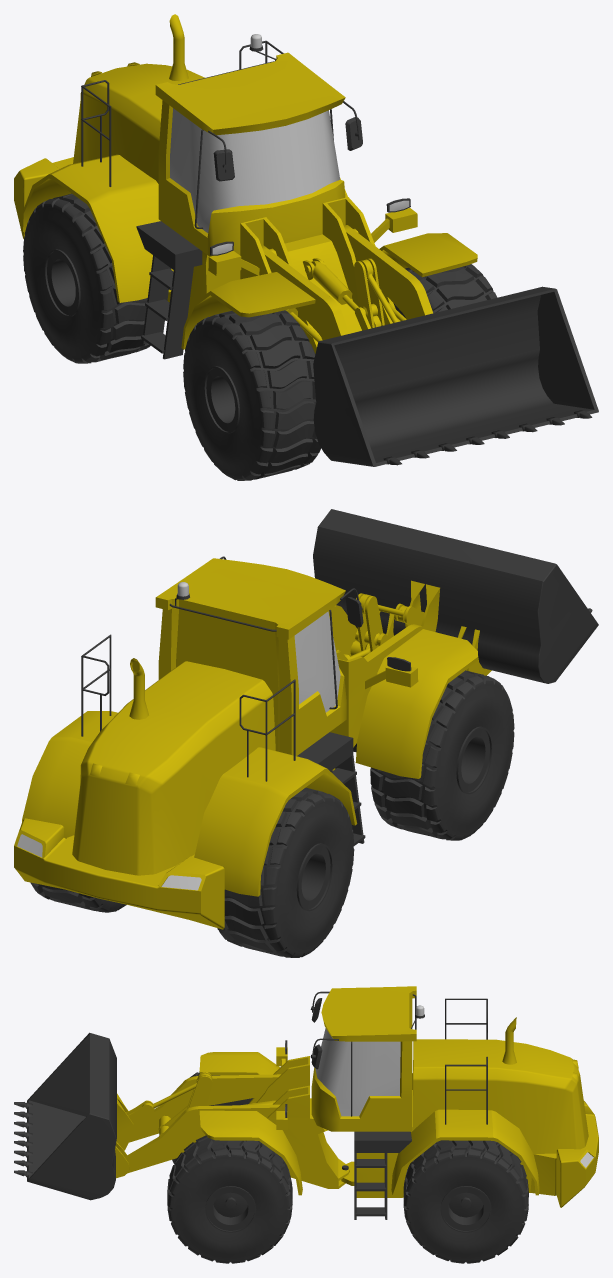
File: Bager.fbx
3 views of the same model, one above another, from view 1: azimuth 30°, elevation 25°; view 2: azimuth 150°, elevation 25°; view 3: azimuth 270°, elevation 25° (orthographic). The views are drawn at different scales.
Visible parts, largest first — view 1: kovsh_low, wheel_low, Cabin_low, glass_low, base_back_low, base_wings_low, front base_low, wing_low, balki kovsha_low, KRYLO_low, wheel cilinder_inside_low, Line_low (+6 smaller); view 2: base_back_low, wheel_low, kovsh_low, Cabin_low, base_wings_low, wing_low, glass_low, wheel cilinder_inside_low, balki kovsha_low, front base_low, Line_low, KRYLO_low (+2 smaller); view 3: wheel_low, base_back_low, kovsh_low, Cabin_low, balki kovsha_low, front base_low, glass_low, wing_low, base_wings_low, wheel cilinder_inside_low, KRYLO_low, wheel cilinder_low (+6 smaller).
Boxes of the visible parts, x1,y1,x2,y2 form: kovsh_low: [313, 286, 598, 466]; wheel_low: [23, 193, 497, 480]; Cabin_low: [155, 52, 345, 256]; glass_low: [170, 34, 409, 254]; base_back_low: [14, 63, 240, 316]; base_wings_low: [20, 62, 347, 302]; front base_low: [208, 197, 417, 353]; wing_low: [181, 233, 477, 349]; balki kovsha_low: [261, 225, 432, 340]; KRYLO_low: [136, 221, 202, 359]; wheel cilinder_inside_low: [44, 249, 240, 433]; Line_low: [81, 40, 360, 228]; base_back_low: [14, 661, 275, 929]; wheel_low: [30, 670, 514, 957]; kovsh_low: [313, 509, 598, 683]; Cabin_low: [155, 558, 346, 755]; base_wings_low: [22, 711, 357, 896]; wing_low: [355, 629, 477, 778]; glass_low: [17, 582, 340, 890]; wheel cilinder_inside_low: [296, 726, 492, 911]; balki kovsha_low: [328, 580, 491, 675]; front base_low: [330, 651, 418, 770]; Line_low: [81, 556, 358, 781]; KRYLO_low: [297, 732, 364, 843]; wheel_low: [167, 1071, 528, 1263]; base_back_low: [341, 1039, 598, 1207]; kovsh_low: [27, 1032, 116, 1200]; Cabin_low: [311, 986, 416, 1131]; balki kovsha_low: [115, 1074, 280, 1178]; front base_low: [249, 1047, 349, 1188]; glass_low: [285, 1005, 593, 1167]; wing_low: [199, 1052, 302, 1195]; base_wings_low: [391, 1059, 578, 1195]; wheel cilinder_inside_low: [205, 1186, 491, 1232]; KRYLO_low: [354, 1131, 411, 1219]; wheel cilinder_low: [213, 1192, 483, 1217].
Size of the model in its own units: 359 by 410 by 954.
